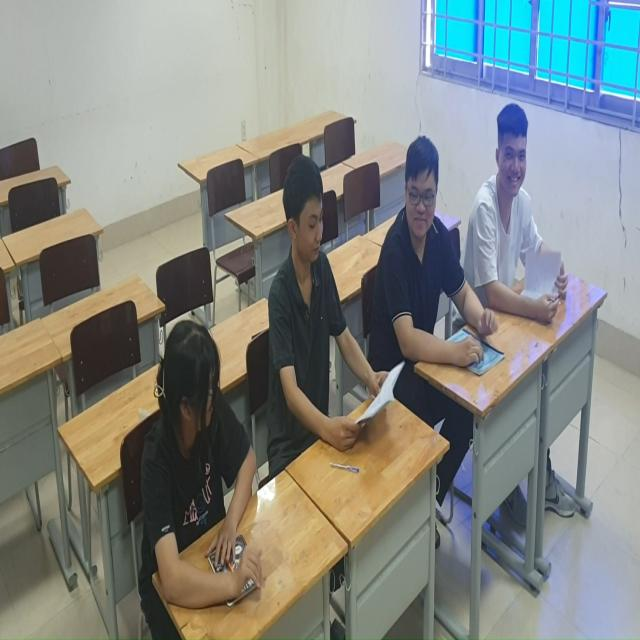read: (266, 157, 411, 478), (388, 131, 507, 382), (469, 105, 572, 326)
sleep: (114, 319, 285, 520)
